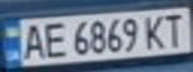6: (69, 18, 90, 56), (106, 16, 127, 53)
8: (87, 17, 109, 55)
9: (121, 15, 145, 52)
A: (18, 20, 48, 61)
E: (39, 19, 69, 60)
K: (139, 11, 169, 51)
T: (160, 10, 190, 47)
